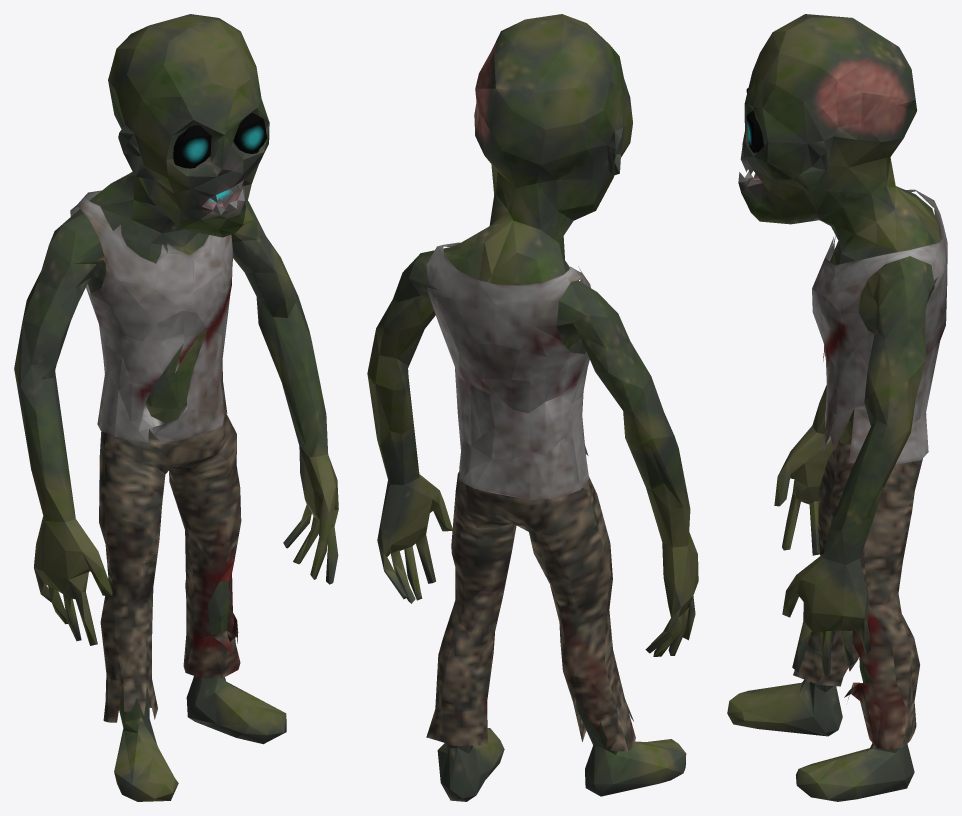
Rendered from zombie_000002.obj.
3 renders of one model, left to right at view 1: azimuth 30°, elevation 25°; view 2: azimuth 150°, elevation 25°; view 3: azimuth 270°, elevation 25°, orthographic. The views are drawn at different scales.
Parts seen in each view (by area): view 1: body_Mesh.001, Object001_Mesh.002, clooth_Mesh; view 2: body_Mesh.001, Object001_Mesh.002, clooth_Mesh; view 3: body_Mesh.001, Object001_Mesh.002, clooth_Mesh.
Part boxes in pixels (x1,y1,x2,y2): body_Mesh.001: (14, 14, 338, 801); Object001_Mesh.002: (99, 410, 241, 722); clooth_Mesh: (70, 190, 233, 442); body_Mesh.001: (367, 14, 698, 801); Object001_Mesh.002: (426, 471, 635, 751); clooth_Mesh: (426, 242, 590, 499); body_Mesh.001: (727, 14, 941, 801); Object001_Mesh.002: (793, 440, 922, 749); clooth_Mesh: (812, 189, 947, 464).
Size of the model in its own units: 0.1636 by 0.3912 by 0.1055.
Materials: 2 (2 with a texture image).
